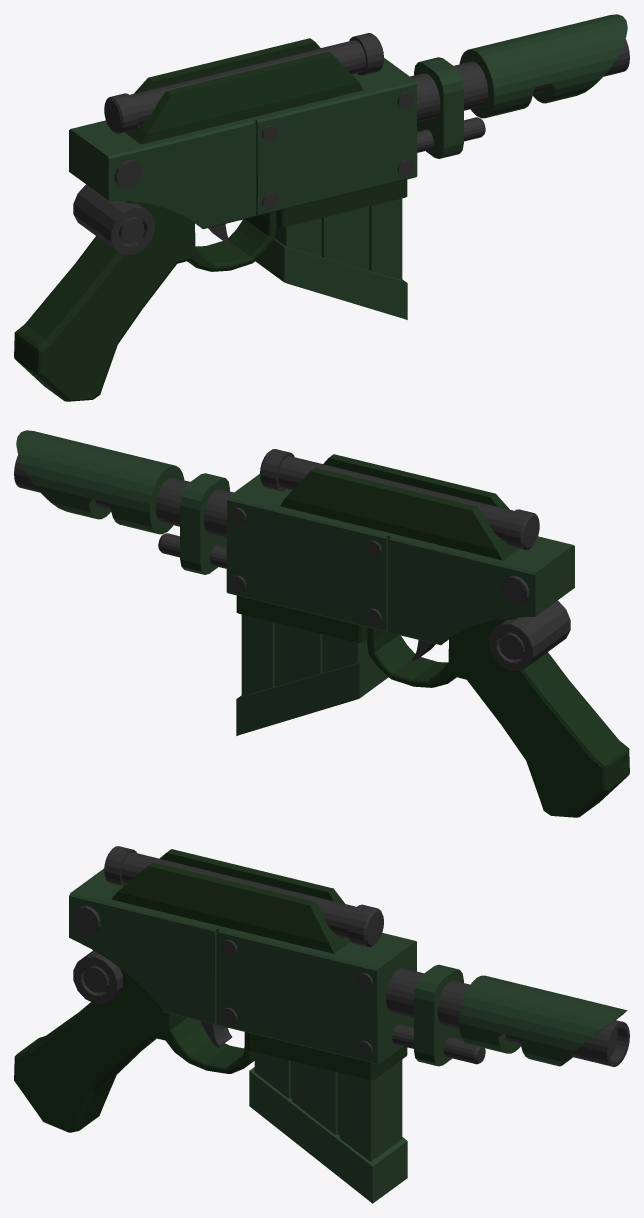
Rendered from Voss_Pattern_Hellpistol_Green.fbx.
3 renders of one model, top to bottom at view 1: azimuth 30°, elevation 25°; view 2: azimuth 150°, elevation 25°; view 3: azimuth 330°, elevation 25°, orthographic.
Parts seen in each view (by area): view 1: Voss_Pattern_Hellpistol_Green; view 2: Voss_Pattern_Hellpistol_Green; view 3: Voss_Pattern_Hellpistol_Green.
Boxes of the visible parts, left/top/right/bottom form: Voss_Pattern_Hellpistol_Green: left=14, top=14, right=629, bottom=401; Voss_Pattern_Hellpistol_Green: left=14, top=430, right=629, bottom=817; Voss_Pattern_Hellpistol_Green: left=14, top=846, right=629, bottom=1203.
Bounding box in the file's own units: 63.41 × 29.03 × 8.17.
